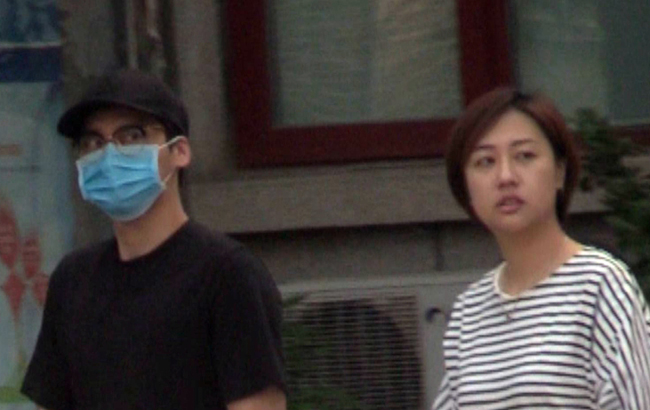face: (468, 117, 546, 232)
face_mask: (77, 103, 162, 224)
